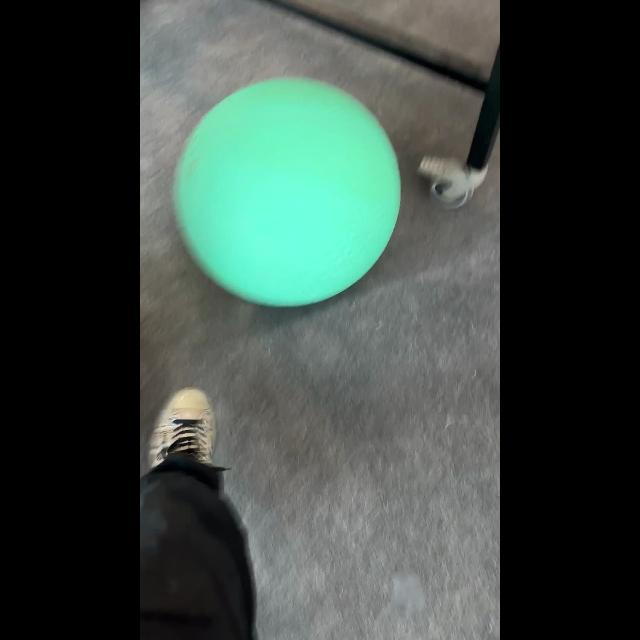ALGAE: (172, 75, 402, 308)
